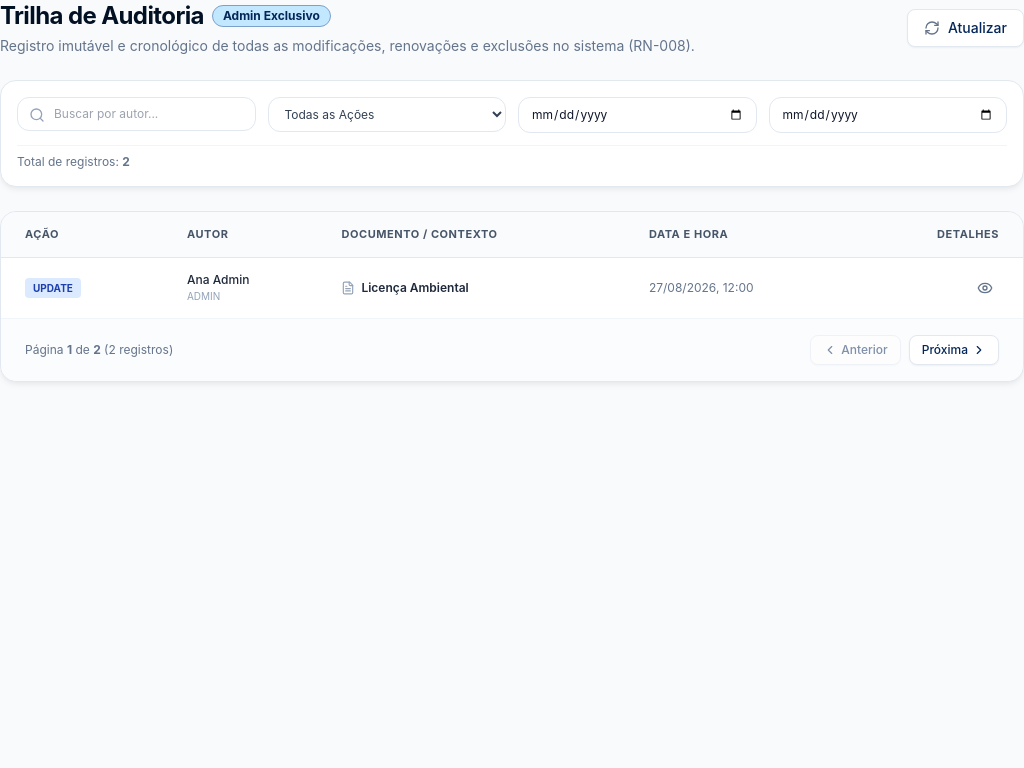
Test case: Auditoria — endpoint, filtros, paginação e diff › busca por autor com debounce, pagina no servidor e abre o modal de diff
Expected: the text "Ana Admin" is shown, [187,272,249,286]
In the field with placeholder "Buscar por autor...": [136, 114] box [17,97,256,131], type "Ana"
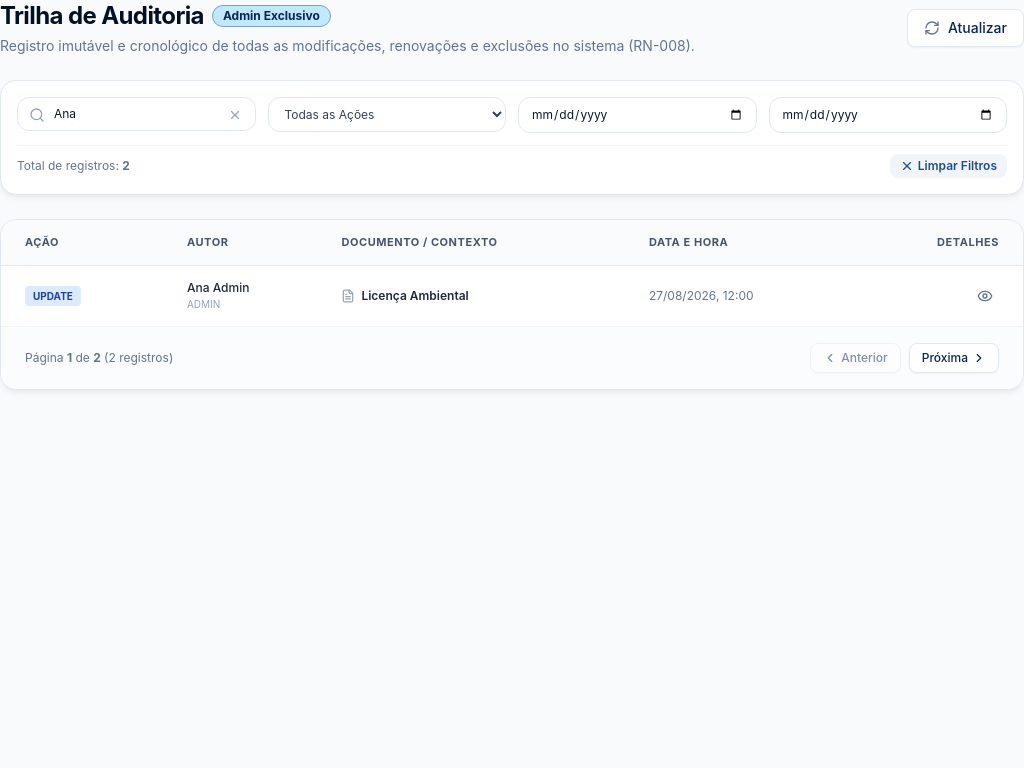
Click the button "Próxima": [954, 358] box [909,342,999,372]
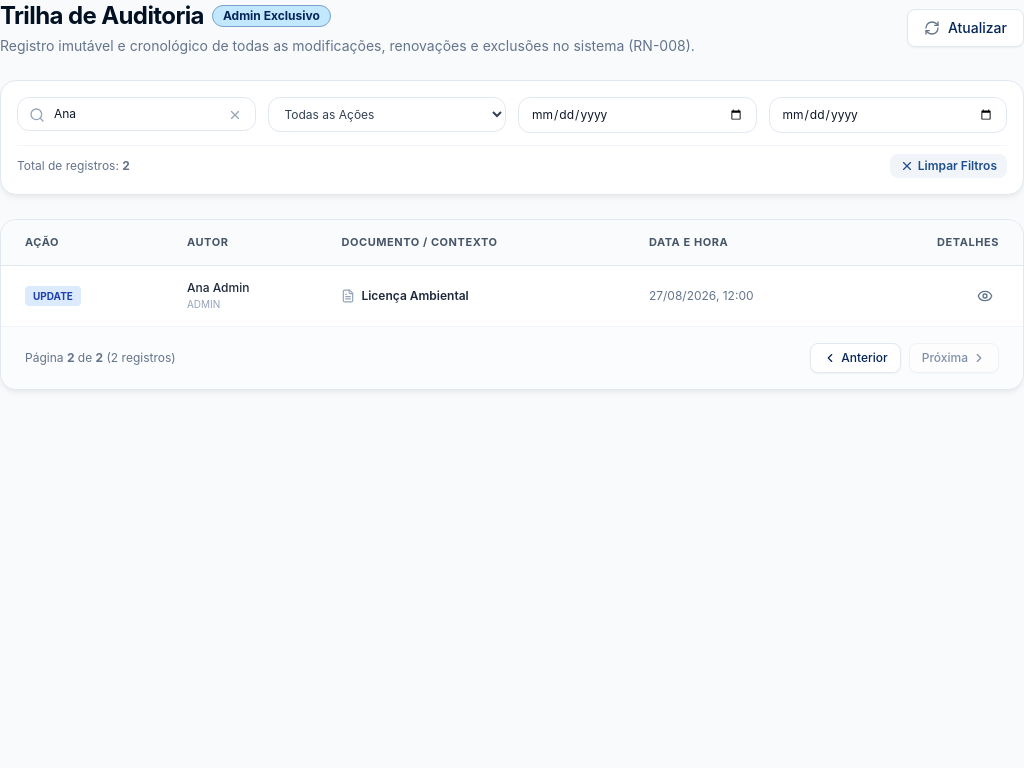
Click the button named "Ver detalhes do log": [985, 296] box [971,282,999,310]
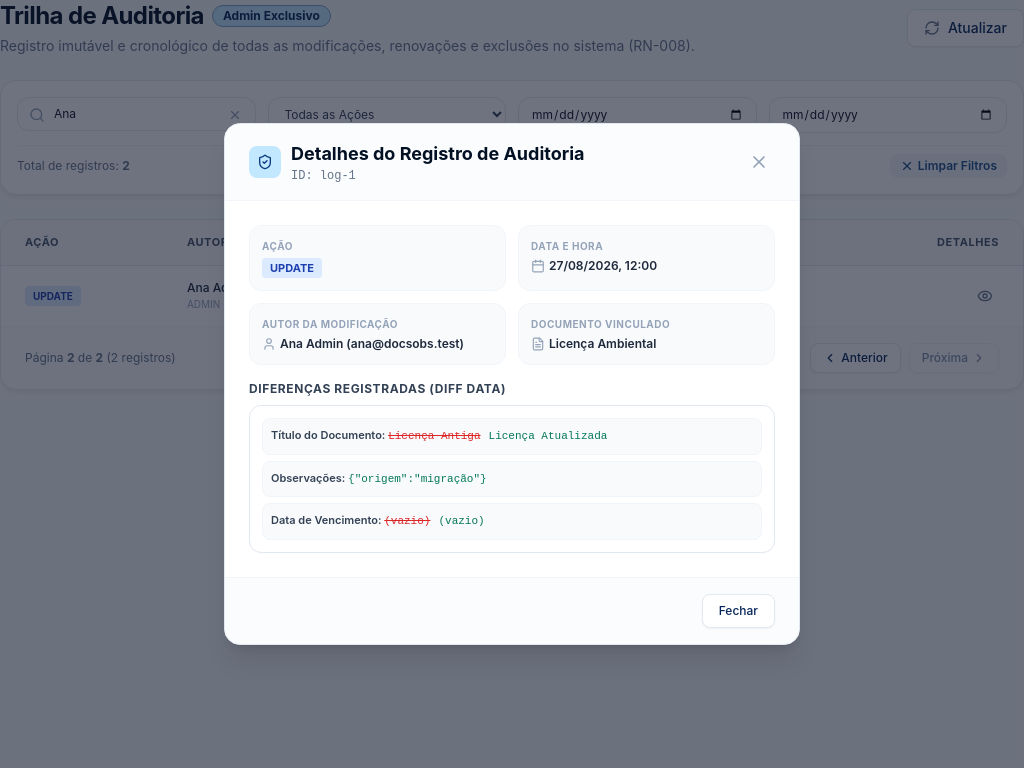
Result: the dialog "Detalhes do Registro de Auditoria" is shown
Result: the text "Licença Antiga" is shown at [388,430,480,442]
Result: the text "Licença Atualizada" is shown at [488,430,607,442]
